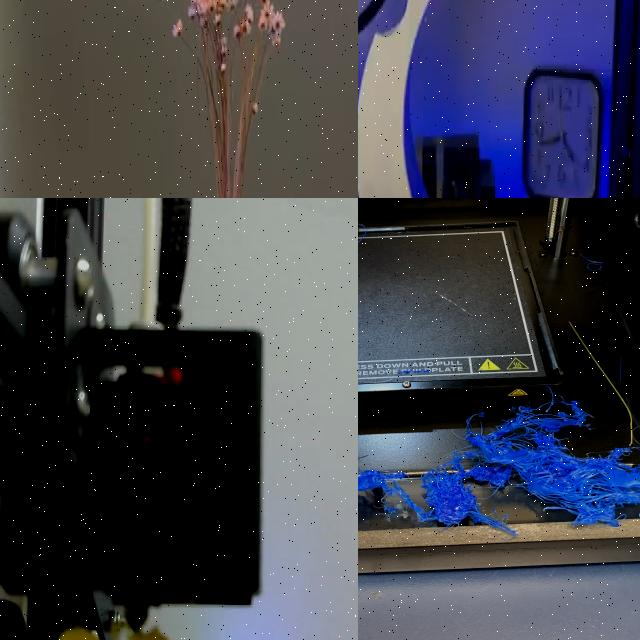spaghetti: (358, 401, 640, 535)
